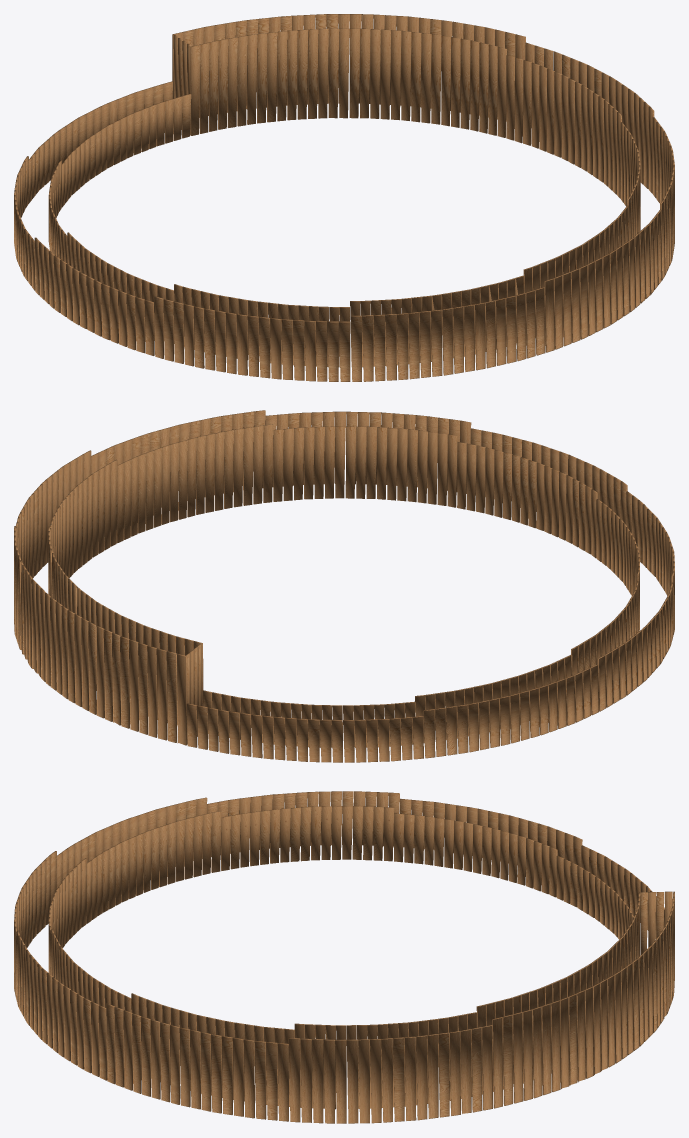
Rendered from mesh_tut_fences.glb.
The picture shows the model from 3 angles, top to bottom: view 1: azimuth 30°, elevation 25°; view 2: azimuth 150°, elevation 25°; view 3: azimuth 270°, elevation 25°; orthographic projection.
Parts seen in each view (by area): view 1: mesh_tut_fences; view 2: mesh_tut_fences; view 3: mesh_tut_fences.
Boxes of the visible parts, <box> form: mesh_tut_fences: <box>14,14,674,381</box>; mesh_tut_fences: <box>14,410,674,762</box>; mesh_tut_fences: <box>14,791,674,1123</box>.
Bounding box in the file's own units: 18.87 × 2.82 × 18.86.
Materials: 1 (1 with a texture image).
